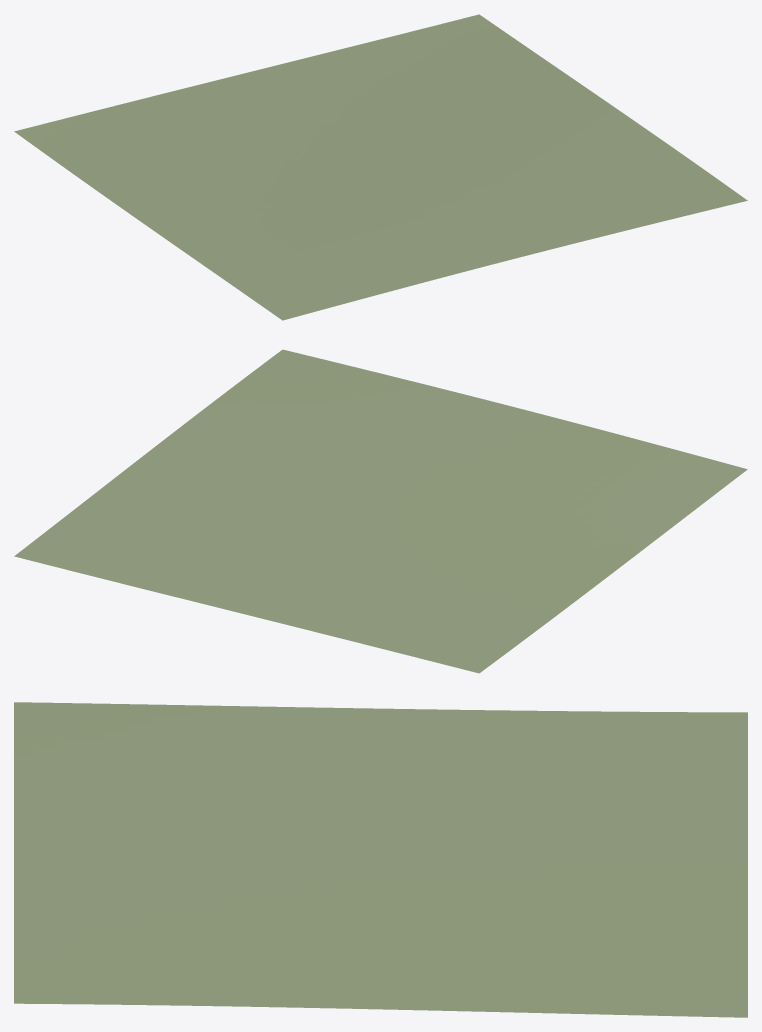
Rendered from expanse-8-30.glb.
The picture shows the model from 3 angles, top to bottom: view 1: azimuth 30°, elevation 25°; view 2: azimuth 150°, elevation 25°; view 3: azimuth 270°, elevation 25°; orthographic projection. The views are drawn at different scales.
Visible parts, largest first — view 1: expanse-8-30; view 2: expanse-8-30; view 3: expanse-8-30.
Boxes of the visible parts, x1=… form: expanse-8-30: x1=14, y1=14, x2=747, y2=320; expanse-8-30: x1=14, y1=349, x2=747, y2=673; expanse-8-30: x1=14, y1=702, x2=747, y2=1017.
Size of the model in its own units: 256 by 7.3 by 256.
